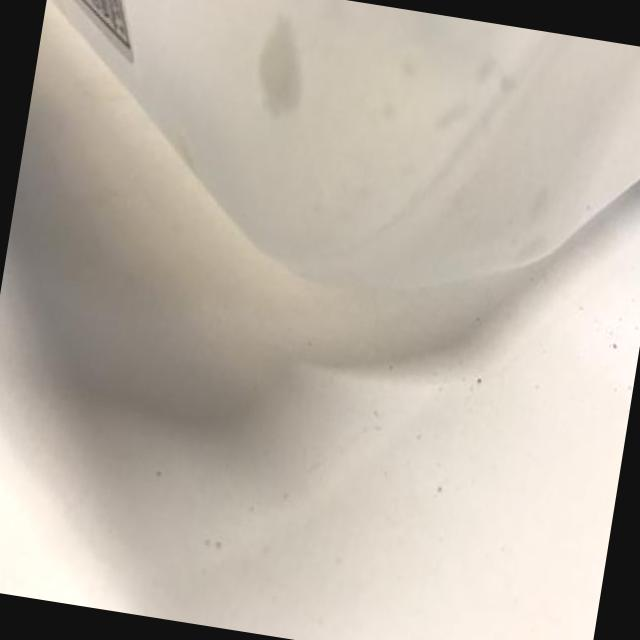Recycle: (10, 0, 640, 328)
